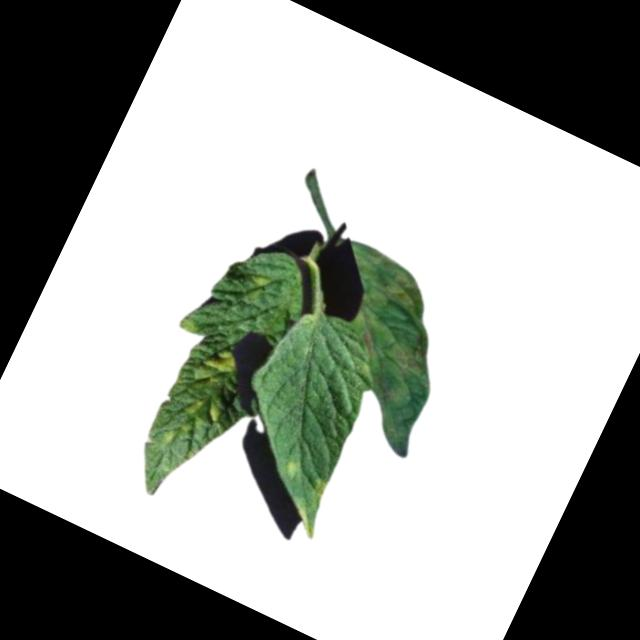Leaf_Mold: (260, 455, 343, 544), (385, 321, 452, 391), (363, 255, 433, 320), (197, 337, 242, 383)
